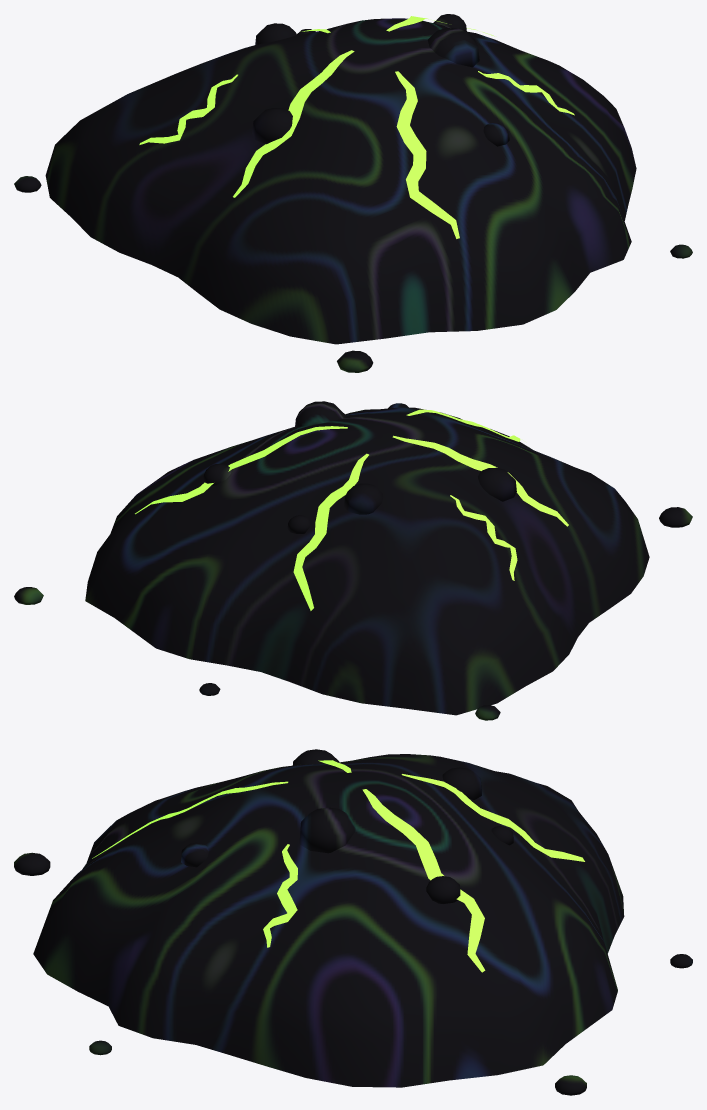
File: slime_pile.glb
3 renders of one model, top to bottom at view 1: azimuth 30°, elevation 25°; view 2: azimuth 150°, elevation 25°; view 3: azimuth 270°, elevation 25°, orthographic. The views are drawn at different scales.
Parts seen in each view (by area): view 1: slime_pile; view 2: slime_pile; view 3: slime_pile.
Part boxes in pixels (<box>): slime_pile: <box>14,14,692,372</box>; slime_pile: <box>14,401,692,720</box>; slime_pile: <box>14,749,692,1095</box>.
Size of the model in its own units: 2.62 by 0.8247 by 2.84.
Materials: 2 (1 with a texture image).
